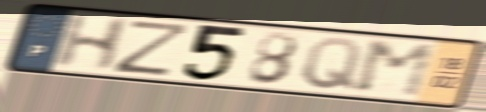5: (180, 23, 253, 84)
8: (245, 30, 301, 86)
H: (50, 13, 135, 73)
M: (351, 39, 440, 100)
Q: (298, 35, 365, 93)
Z: (110, 17, 195, 79)
